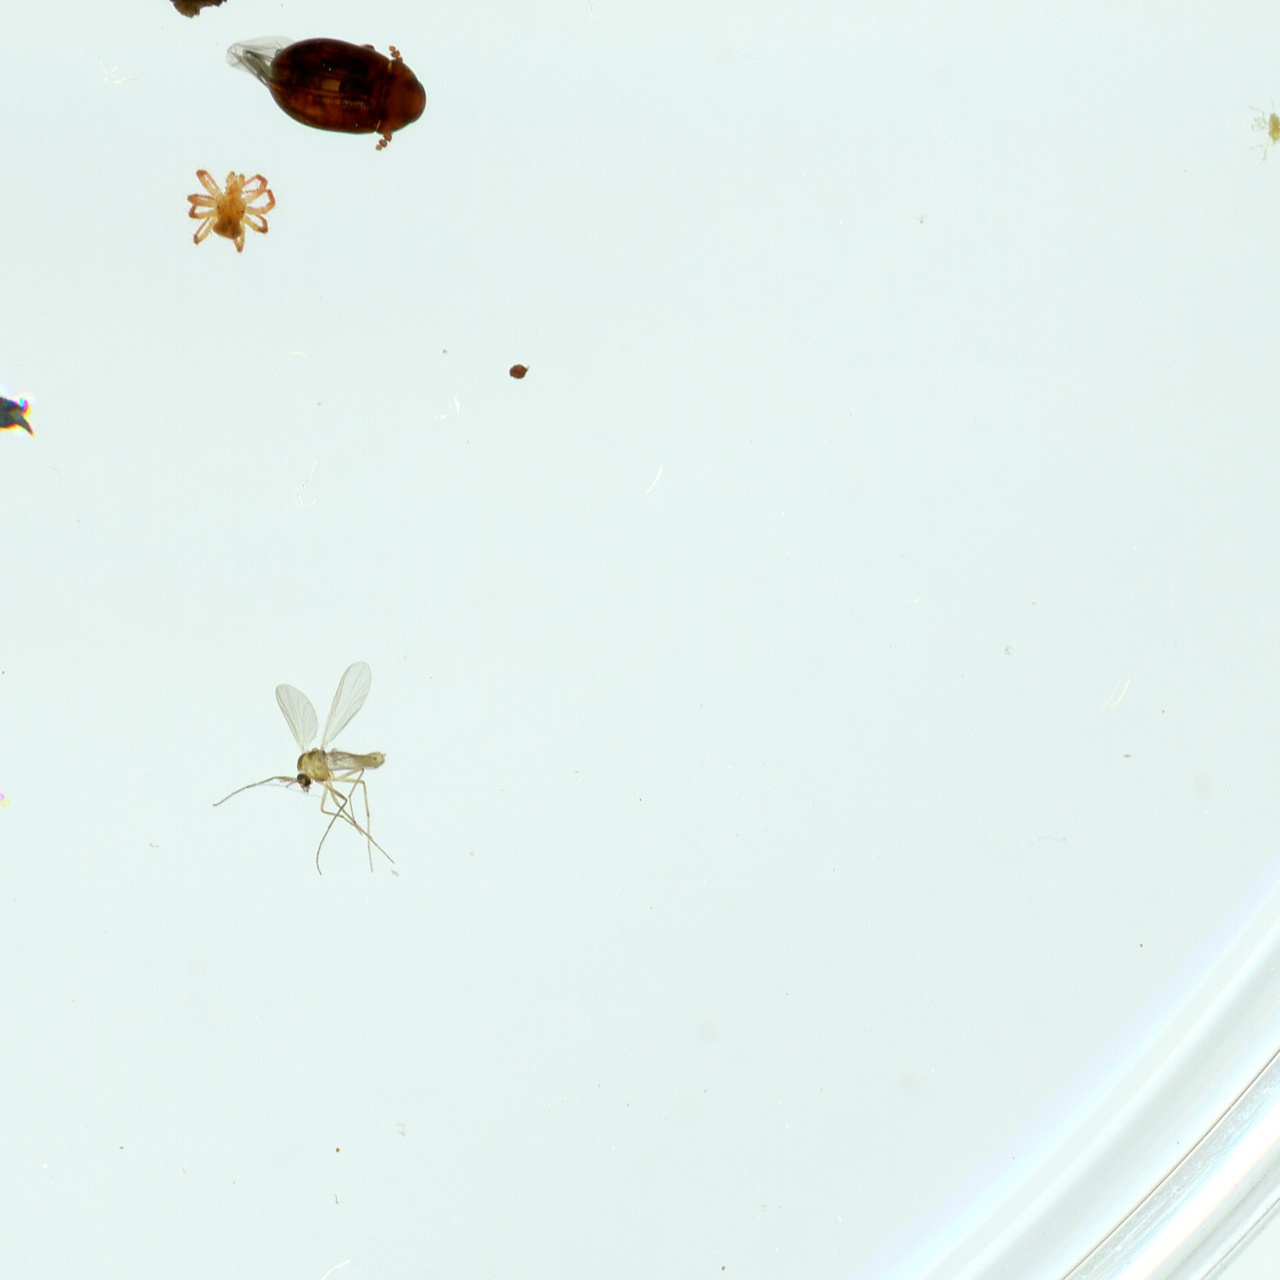arthropod: (212, 663, 395, 875), (228, 35, 427, 152), (187, 168, 276, 254), (1244, 90, 1280, 172), (0, 383, 34, 438)
